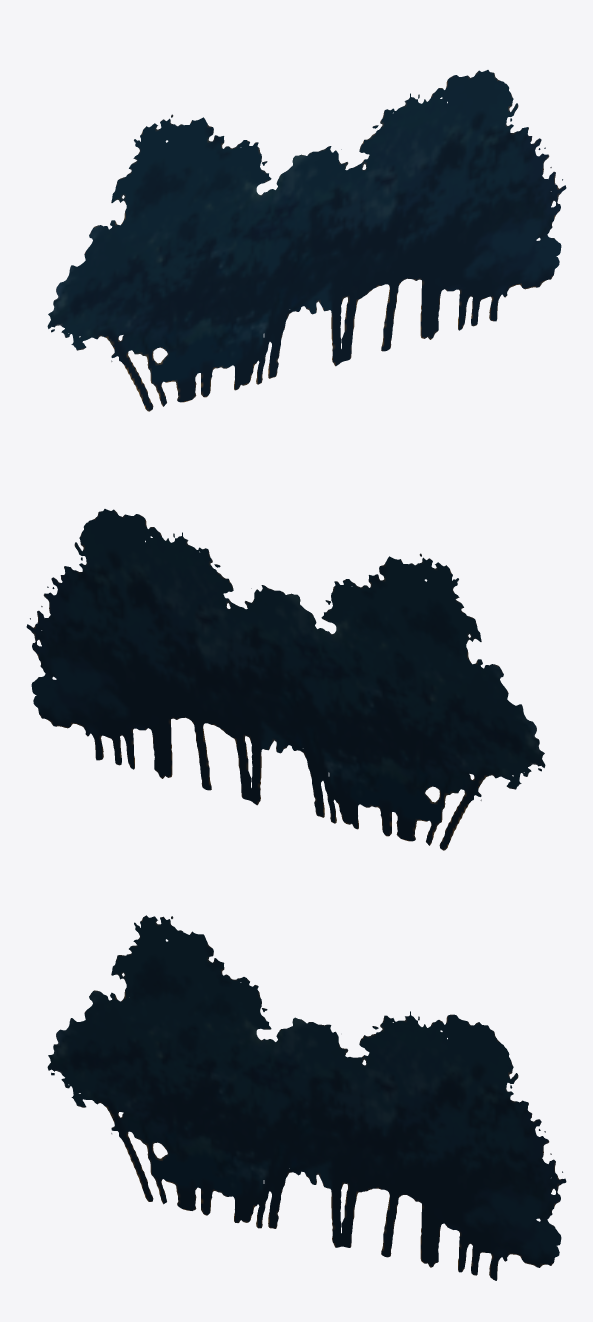
The model's file is HuBian_NightShu6_fbx.FBX.
The picture shows the model from 3 angles, top to bottom: view 1: azimuth 30°, elevation 25°; view 2: azimuth 150°, elevation 25°; view 3: azimuth 330°, elevation 25°; orthographic projection.
Parts seen in each view (by area): view 1: Object045; view 2: Object045; view 3: Object045.
Part boxes in pixels (x1=…): Object045: x1=47, y1=70, x2=566, y2=411; Object045: x1=26, y1=509, x2=545, y2=850; Object045: x1=47, y1=915, x2=566, y2=1280.
Size of the model in its own units: 3.94 by 2.11 by 1.22e-06.
Materials: 1 (1 with a texture image).
